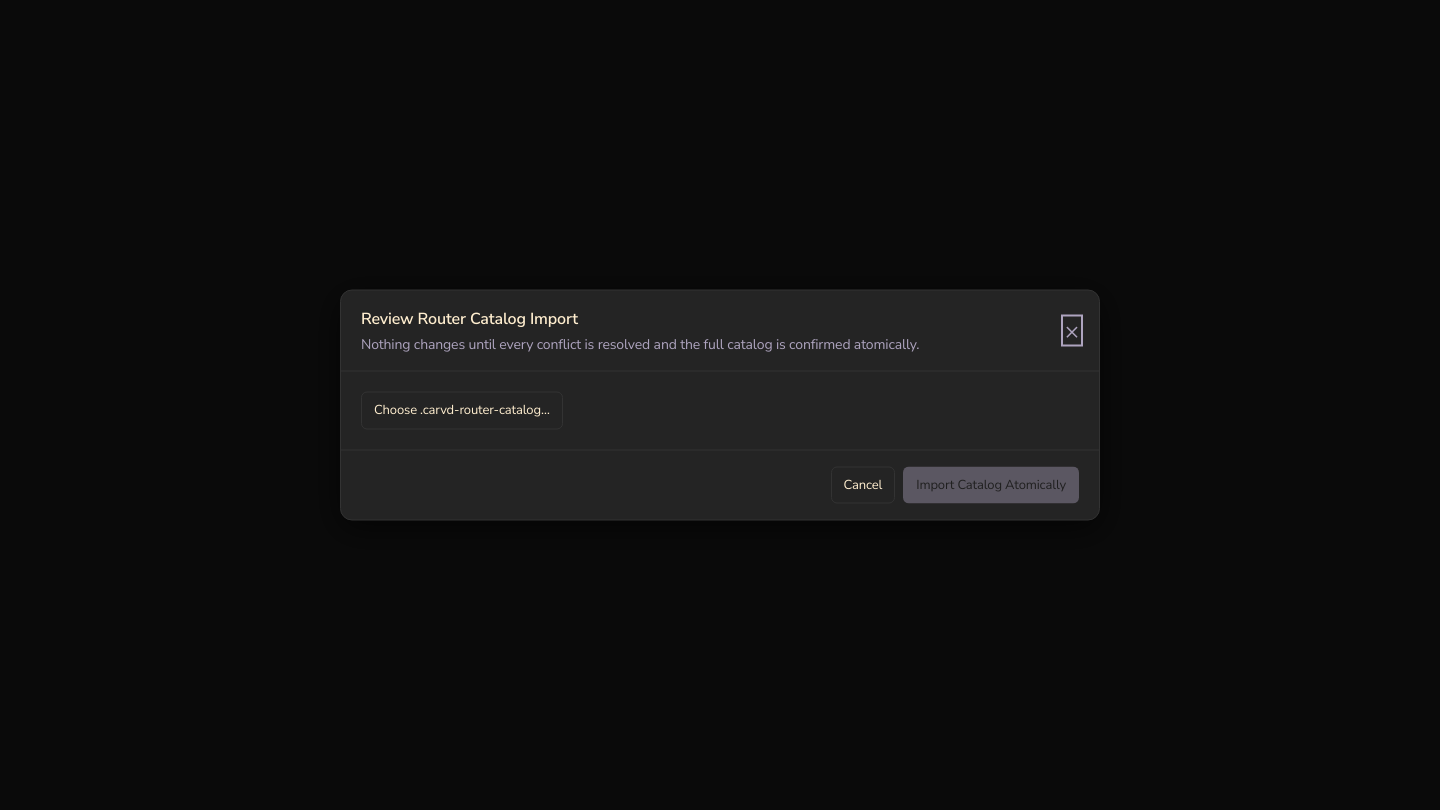
Test: RouterCatalogImportDialog › requires explicit acknowledgement for an unsigned catalog
What coordinates should you click on to do the following:
click the button "Choose .carvd-router-catalog…"
I would click on:
 (462, 410)
Its box is x1=361 y1=392 x2=563 y2=429.
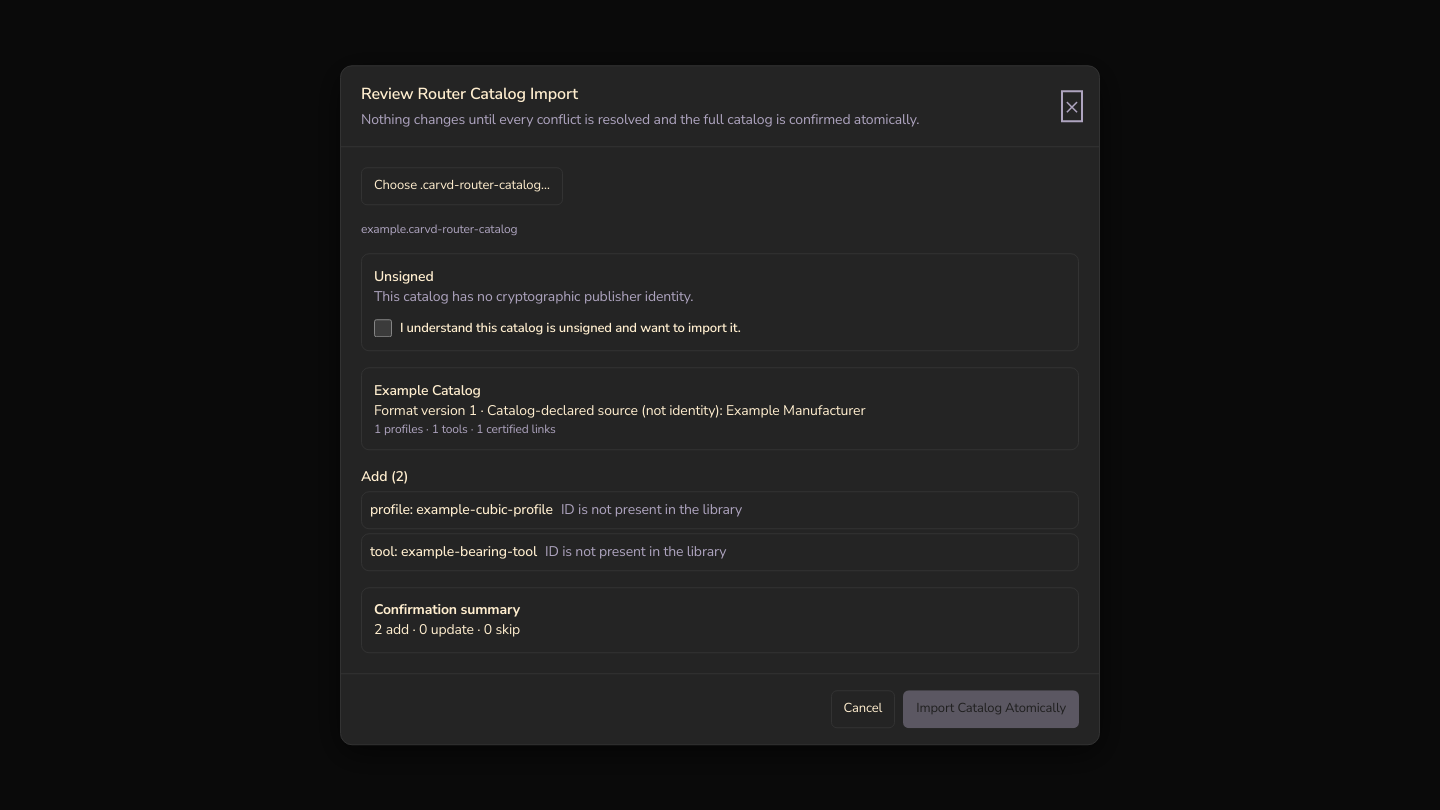
Check: the button "Import Catalog Atomically" is disabled, box x1=903 y1=690 x2=1079 y2=728
Check: the message named "Catalog signature" shows "Unsigned", box x1=374 y1=267 x2=434 y2=286
What coordinates should you click on to do the following:
click the checkbox labelled "I understand this catalog is unsigned and want to import it."
I would click on:
 (383, 328)
Its box is x1=374 y1=319 x2=392 y2=337.
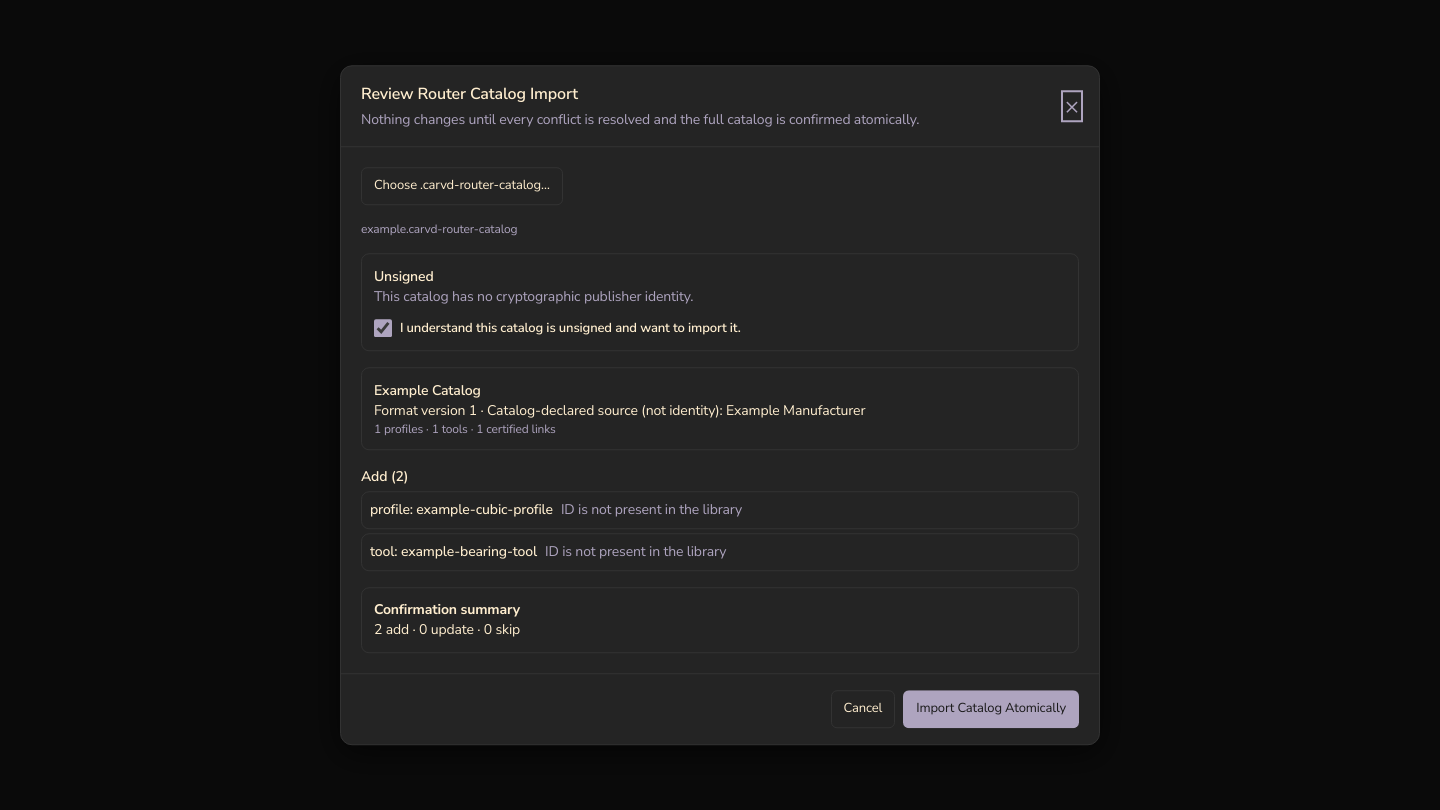
Check: the button "Import Catalog Atomically" is enabled, box x1=903 y1=690 x2=1079 y2=728
